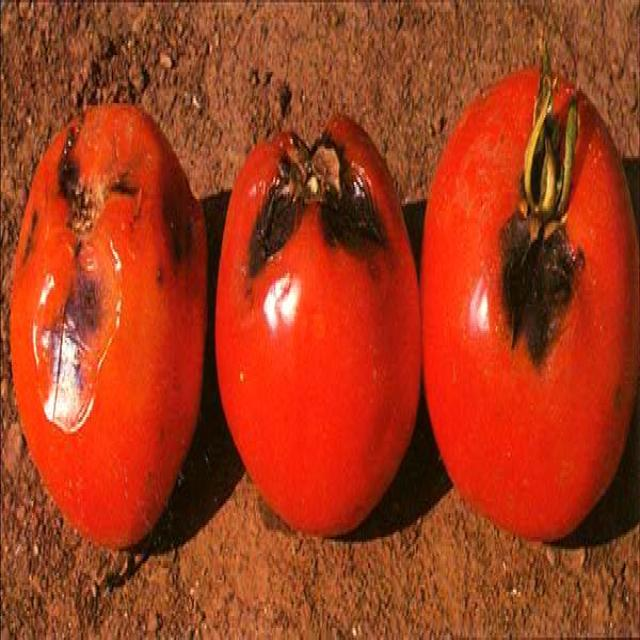Rotten_Tomato: (424, 52, 640, 539), (10, 96, 208, 549), (214, 113, 422, 544)
